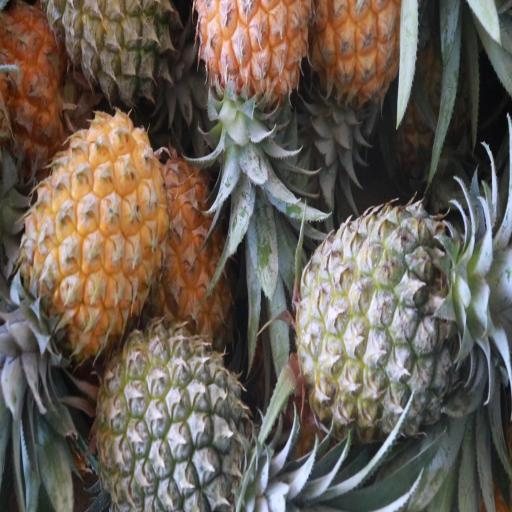------------------------------: (46, 0, 177, 123)
Pineapple - v8 v1: (21, 112, 167, 356), (149, 162, 238, 348), (190, 0, 309, 107), (312, 0, 415, 112)
